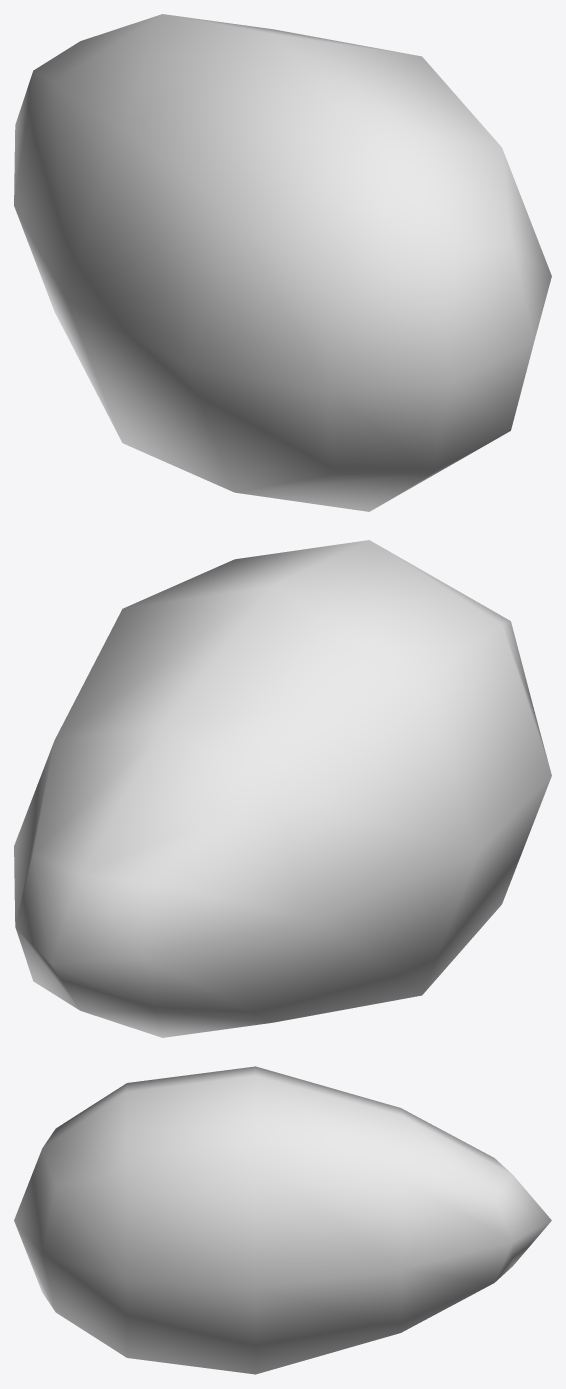
The model's file is SeedProjectile.fbx.
3 views of the same model, one above another, from view 1: azimuth 30°, elevation 25°; view 2: azimuth 150°, elevation 25°; view 3: azimuth 270°, elevation 25° (orthographic). The views are drawn at different scales.
Parts seen in each view (by area): view 1: SeedProjectile; view 2: SeedProjectile; view 3: SeedProjectile.
Boxes of the visible parts, bbox=[...] form: SeedProjectile: bbox=[14, 14, 551, 511]; SeedProjectile: bbox=[14, 540, 551, 1037]; SeedProjectile: bbox=[14, 1066, 551, 1374].
Bounding box in the file's own units: 0.9324 × 0.9324 × 1.57.
